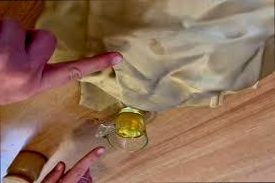oil: (144, 35, 174, 57)
